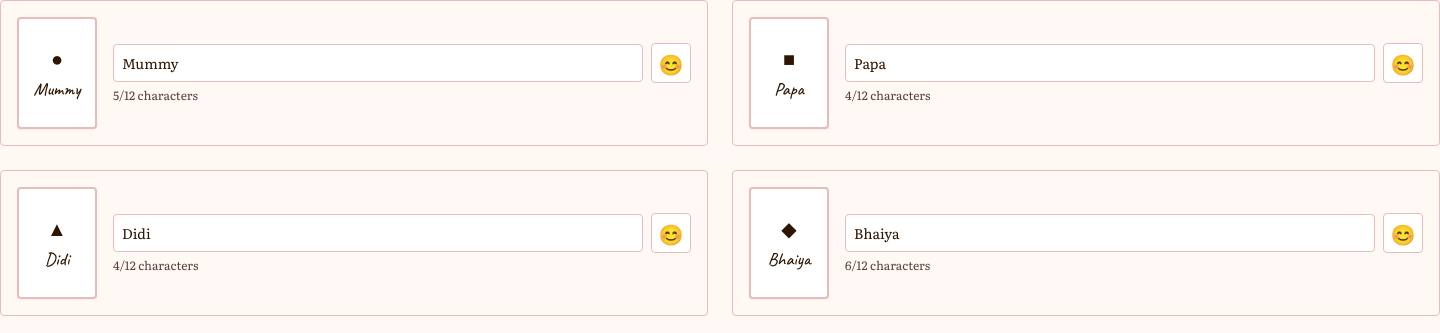
LabelEditor › shows a validation error past the character limit
Replace the text in the field named "Label for TYPE_2" with "ThisLabelIsWayTooLong". click: (1110,63)
box: [845, 44, 1375, 82]
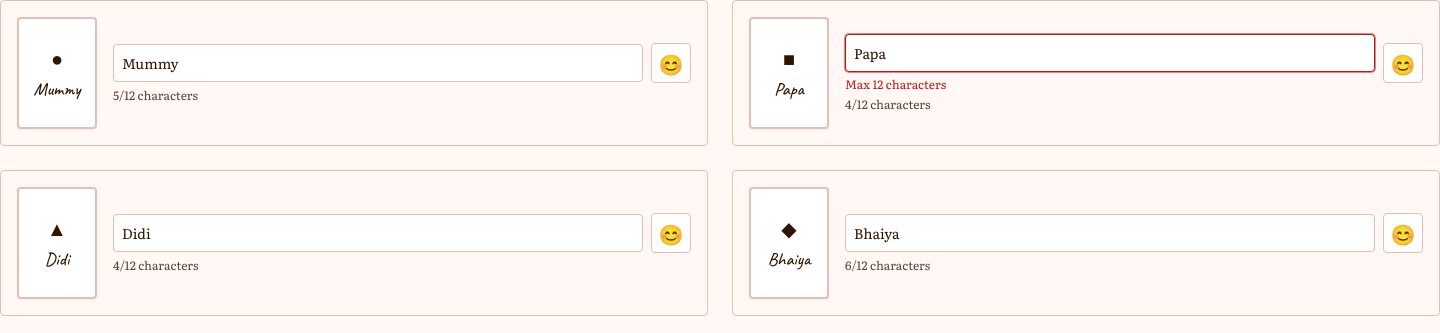
Now the text "Max 12 characters" is shown, box [845, 75, 946, 93]
